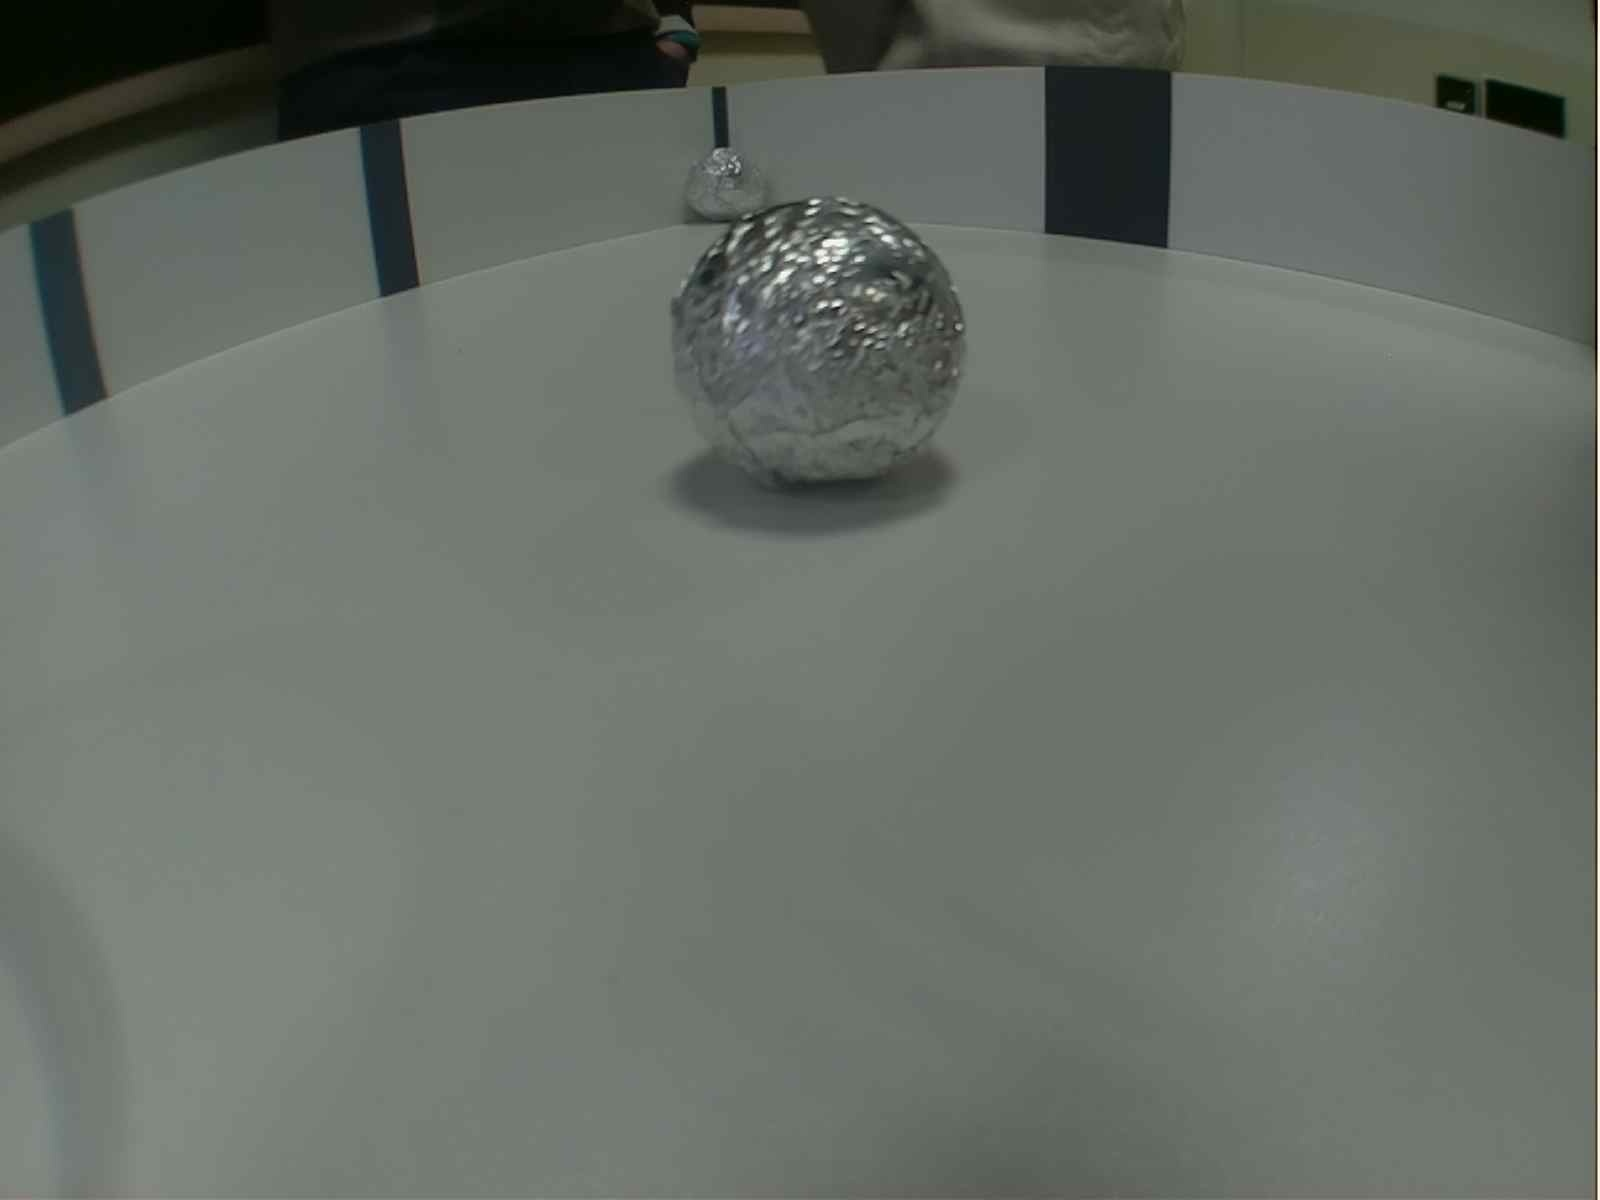bianca: (666, 195, 973, 504), (679, 139, 774, 222)
